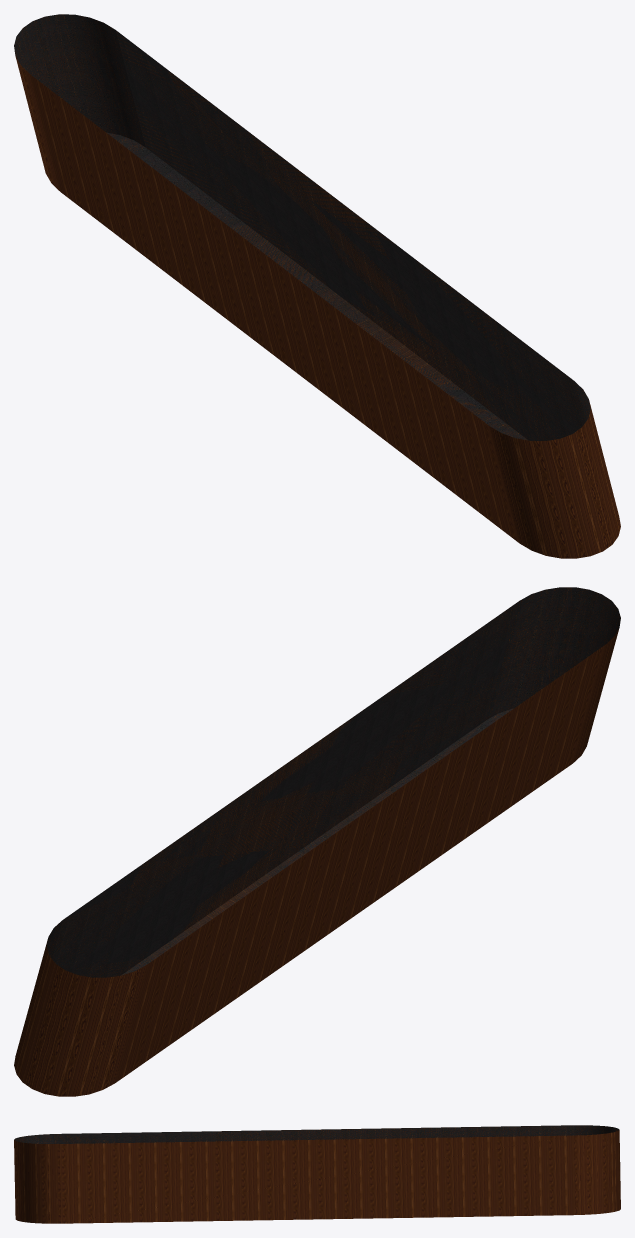
File: original-277.obj
The picture shows the model from 3 angles, top to bottom: view 1: azimuth 30°, elevation 25°; view 2: azimuth 150°, elevation 25°; view 3: azimuth 270°, elevation 25°; orthographic projection. The views are drawn at different scales.
Visible parts, largest first — view 1: mesh116/mesh116-geometry/material_1/component_22#mesh116-geometr; view 2: mesh116/mesh116-geometry/material_1/component_22#mesh116-geometr; view 3: mesh116/mesh116-geometry/material_1/component_22#mesh116-geometr.
Boxes of the visible parts, bbox=[...] form: mesh116/mesh116-geometry/material_1/component_22#mesh116-geometr: bbox=[14, 14, 620, 558]; mesh116/mesh116-geometry/material_1/component_22#mesh116-geometr: bbox=[14, 587, 620, 1096]; mesh116/mesh116-geometry/material_1/component_22#mesh116-geometr: bbox=[14, 1125, 620, 1223].
Bounding box in the file's own units: 0.0287 × 0.0386 × 0.2291.
